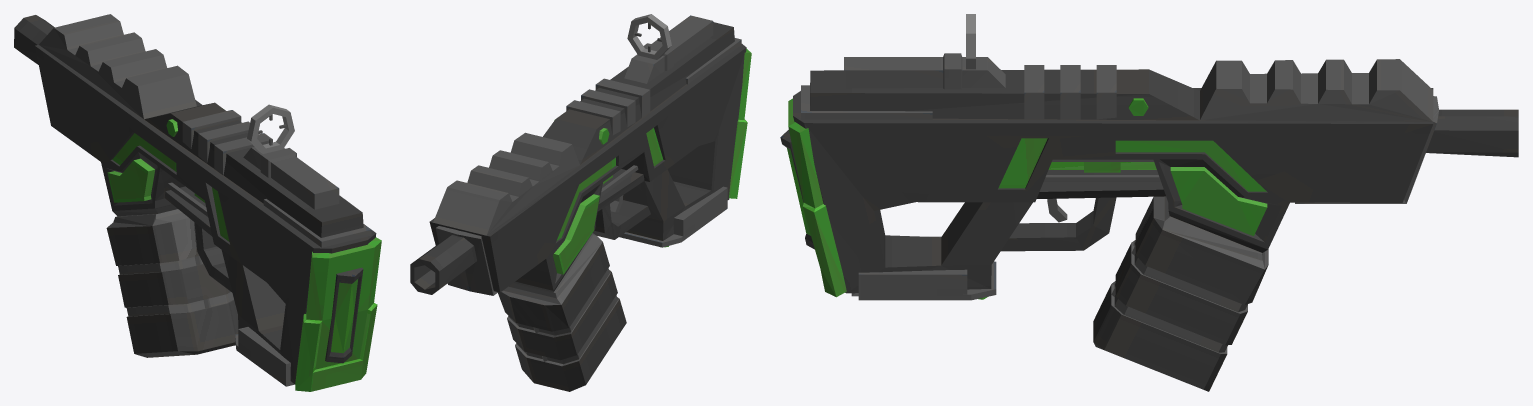
File: rifle_5.glb
3 views of the same model, side by side, from view 1: azimuth 30°, elevation 25°; view 2: azimuth 150°, elevation 25°; view 3: azimuth 270°, elevation 25° (orthographic). The views are drawn at different scales.
Parts seen in each view (by area): view 1: fusil_5_texture_0; view 2: fusil_5_texture_0; view 3: fusil_5_texture_0.
Boxes of the visible parts, box(x1,y1,x2,y2) form: fusil_5_texture_0: box(14, 14, 381, 391); fusil_5_texture_0: box(410, 14, 751, 391); fusil_5_texture_0: box(780, 14, 1518, 391).
Bounding box in the file's own units: 0.0862 × 0.3622 × 0.66.
1 material, 1 textured.
